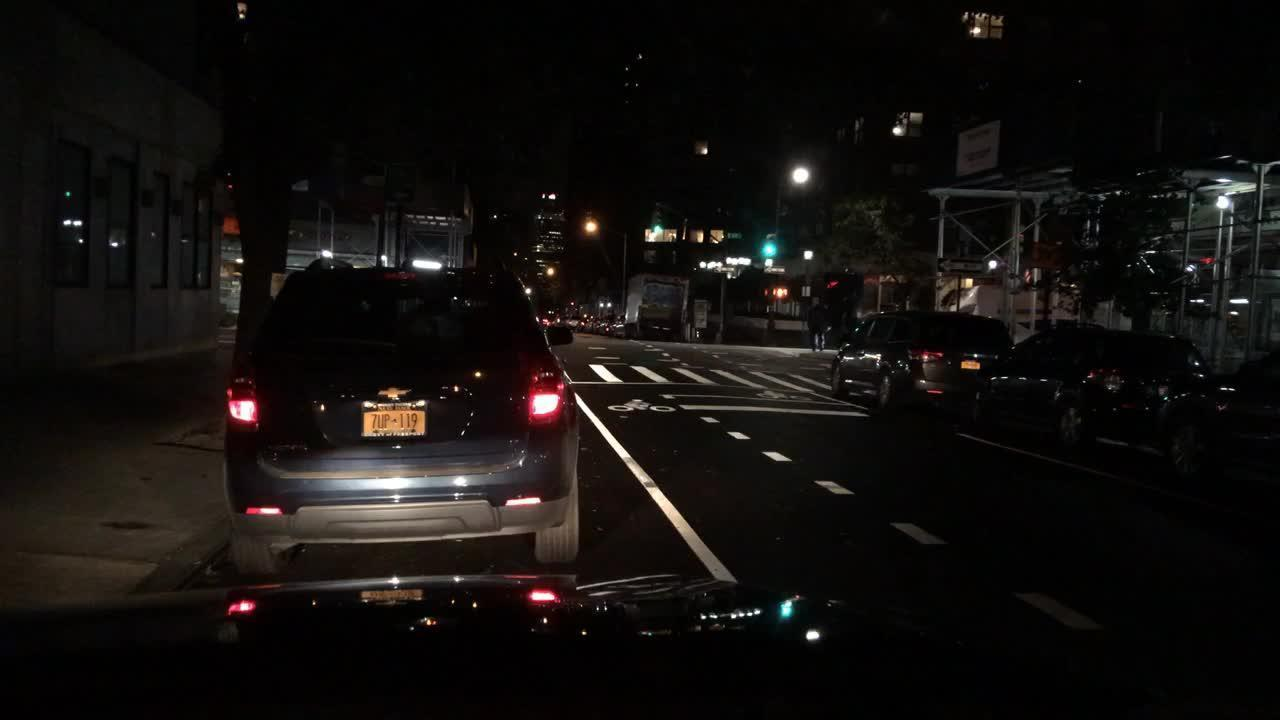chevrolet: (374, 379, 420, 404)
